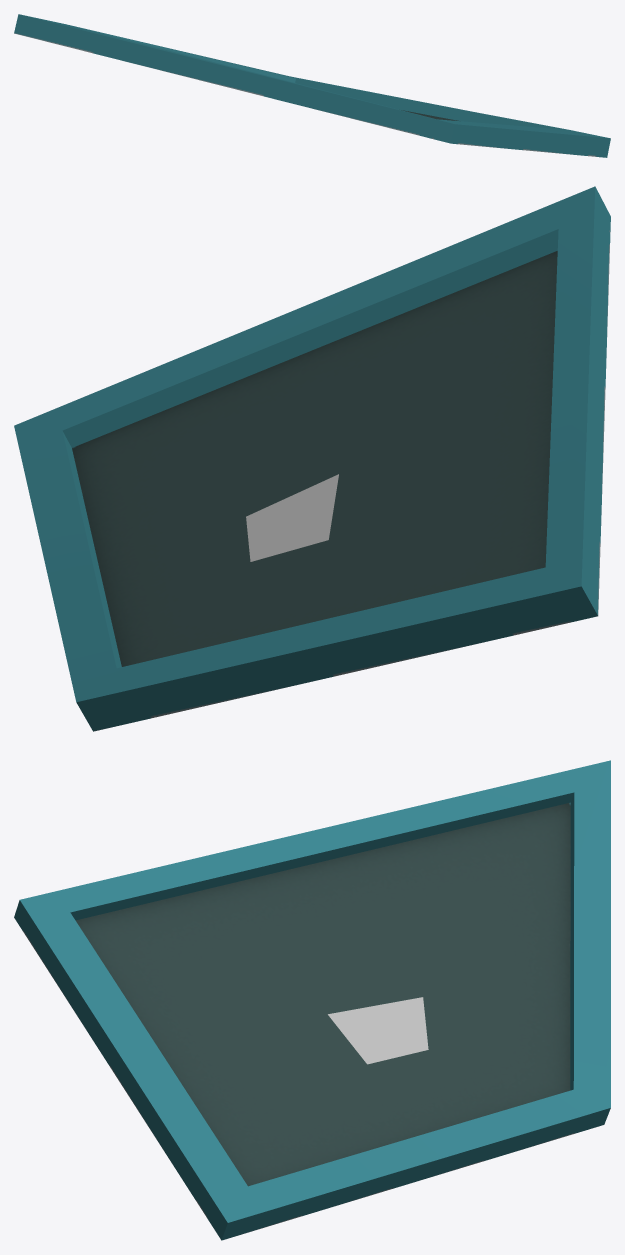
Rendered from Console_Door_Left.fbx.
The picture shows the model from 3 angles, top to bottom: view 1: azimuth 30°, elevation 25°; view 2: azimuth 150°, elevation 25°; view 3: azimuth 270°, elevation 25°; orthographic projection. The views are drawn at different scales.
Visible parts, largest first — view 1: Console_Door_Left; view 2: Console_Door_Left; view 3: Console_Door_Left.
Boxes of the visible parts, x1,y1,x2,y2 form: Console_Door_Left: (14,14,610,157); Console_Door_Left: (14,186,610,731); Console_Door_Left: (14,760,610,1240).
Bounding box in the file's own units: 908 × 276 × 774.
